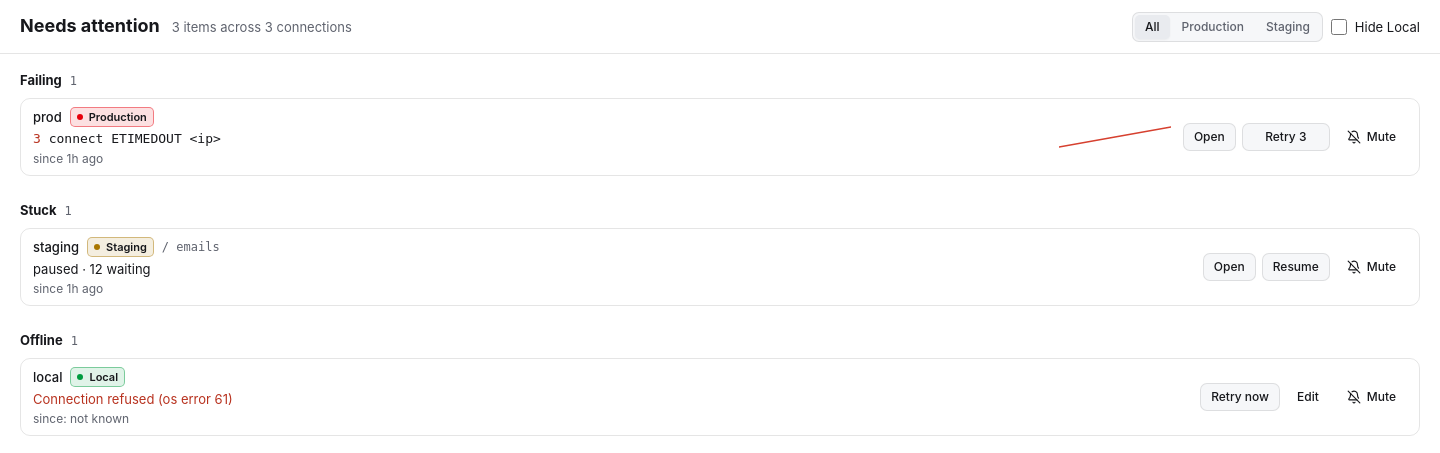
Test: AttentionPage › filters by environment and hides Local
expect the list item with test id "attention-item-failing" is shown: met, box [21,99,1419,175]
Click the radio button with test id "attention-env-staging". click: x=1288, y=26
box: [1256,14,1320,38]
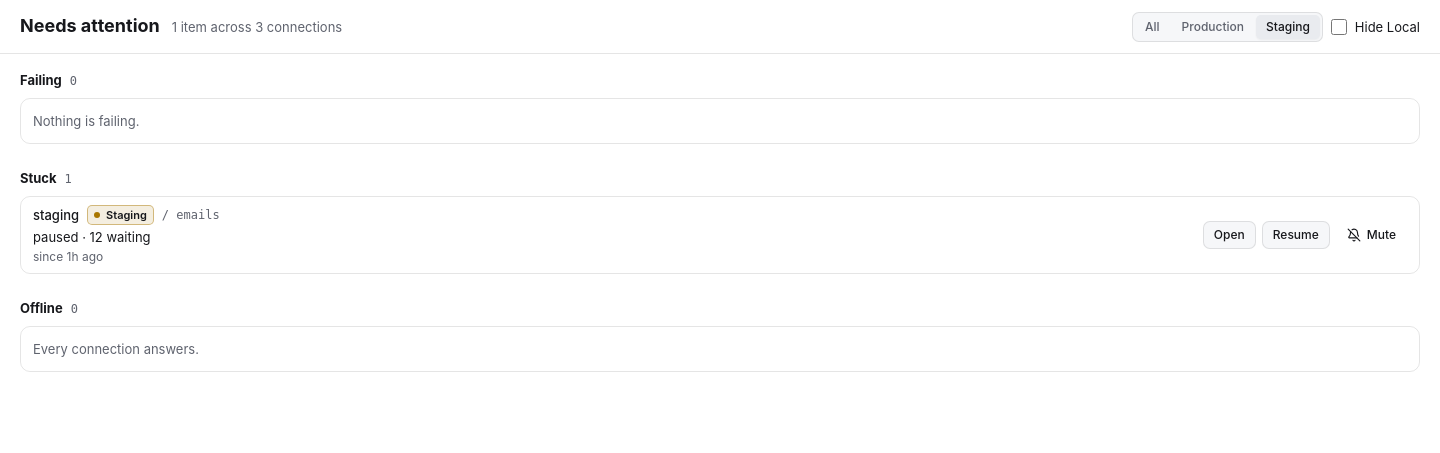
expect the list item with test id "attention-item-stuck" is shown: met, box [21,197,1419,273]
expect the list item with test id "attention-item-failing" is gone: met
Click the radio button with test id "attention-env-all". click: x=1152, y=26
box: [1135,14,1170,38]
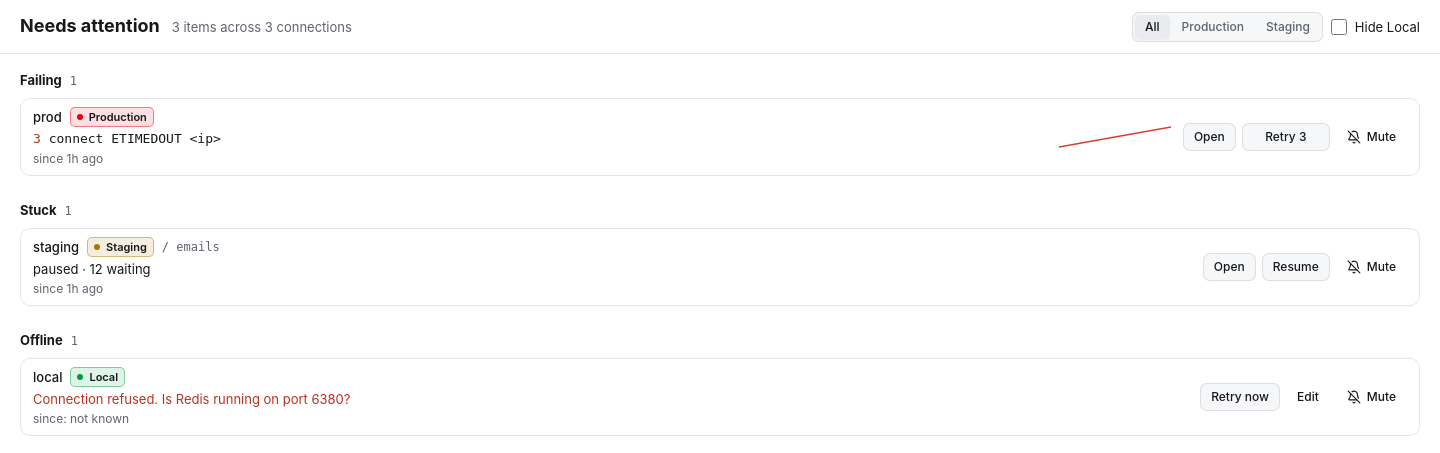
Click the checkbox with test id "attention-hide-local". click: x=1339, y=26
box: [1331,18,1347,34]
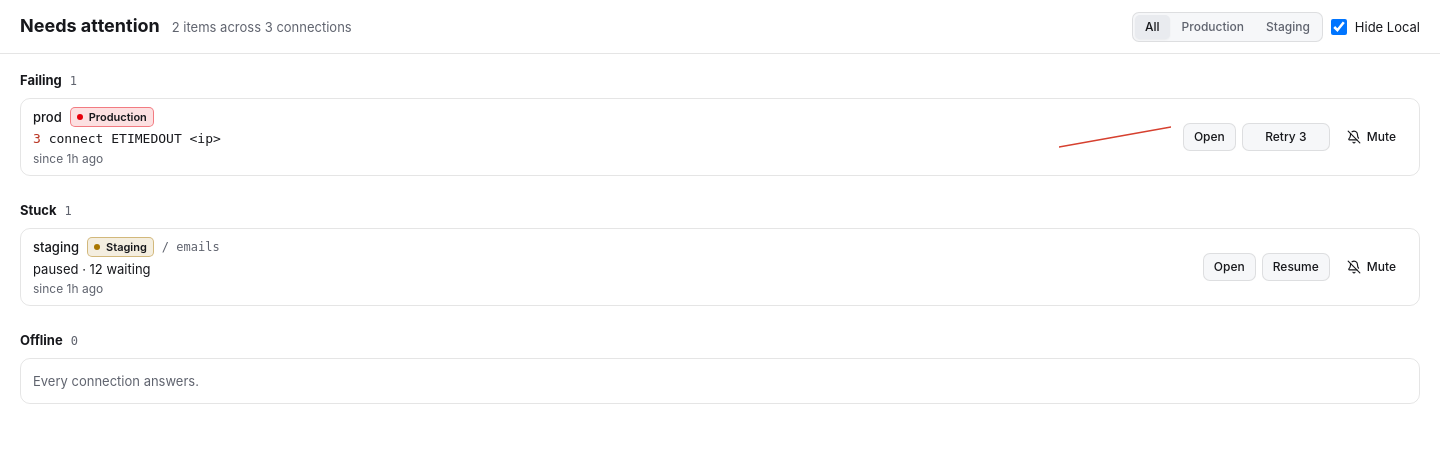
expect the list item with test id "attention-item-failing" is shown: met, box [21,99,1419,175]
expect the list item with test id "attention-item-offline" is gone: met
